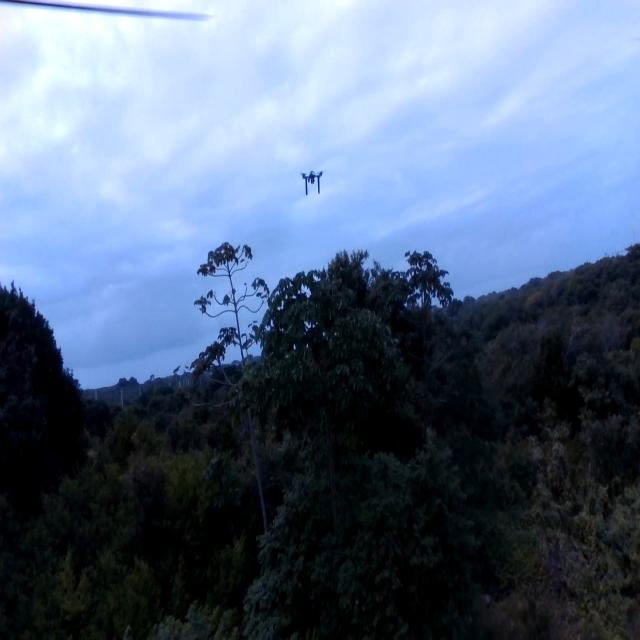-uav-: (292, 158, 336, 208)
